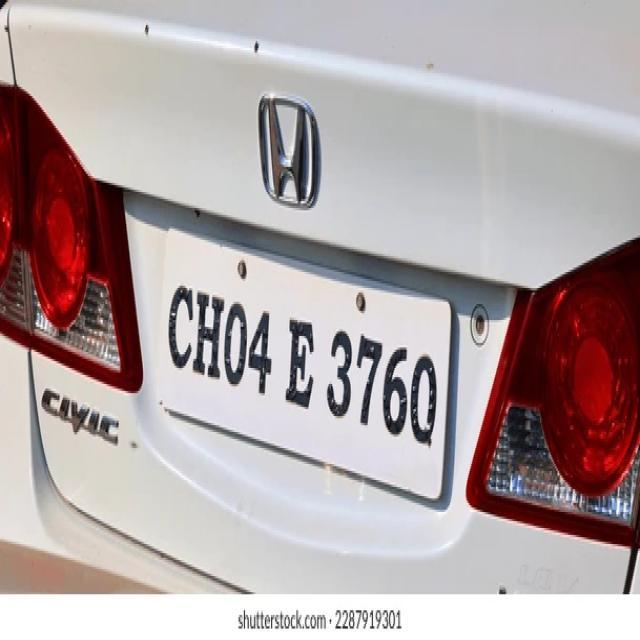plate: (151, 220, 457, 504)
